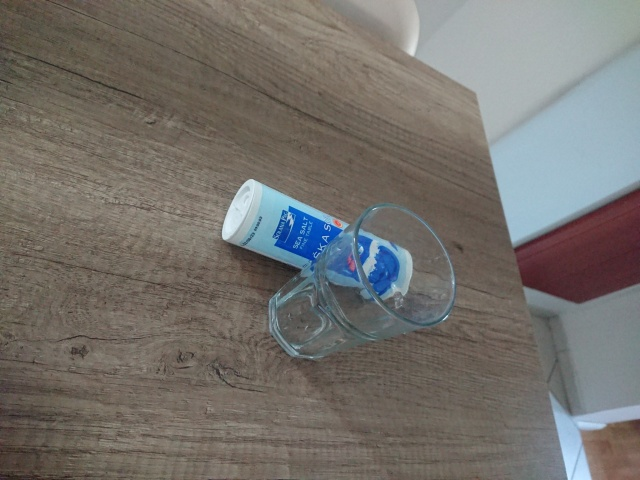Solana Pag Fine Sea Salt 250g: (217, 175, 416, 308)
